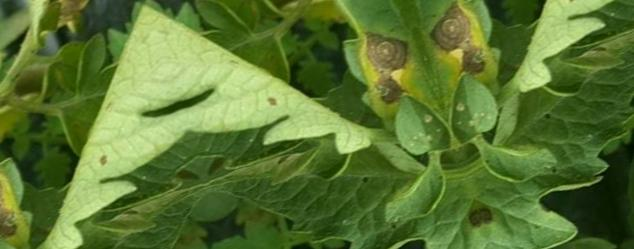Tomato Early blight leaf: (265, 0, 468, 207)
